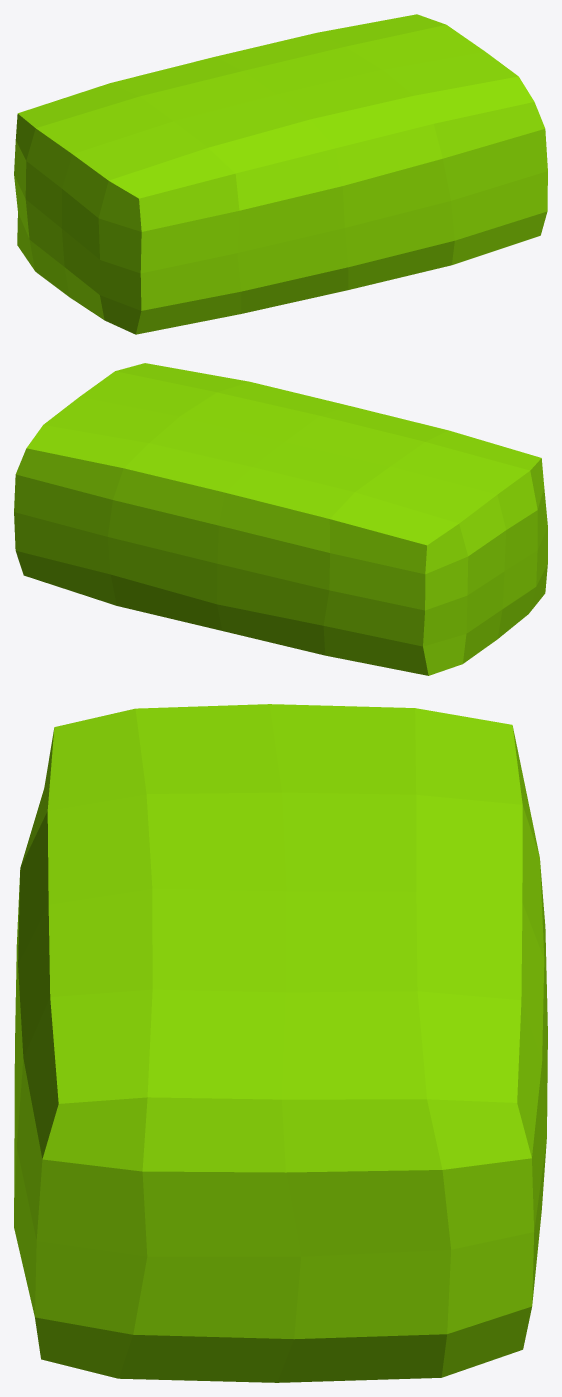
File: Wall_Stone_01_B.fbx
3 renders of one model, top to bottom at view 1: azimuth 30°, elevation 25°; view 2: azimuth 150°, elevation 25°; view 3: azimuth 270°, elevation 25°, orthographic. The views are drawn at different scales.
Parts seen in each view (by area): view 1: Wall_Stone_01_B; view 2: Wall_Stone_01_B; view 3: Wall_Stone_01_B.
Boxes of the visible parts, x1,y1,x2,y2 form: Wall_Stone_01_B: (14,14,547,334); Wall_Stone_01_B: (14,363,547,675); Wall_Stone_01_B: (14,704,547,1382).
Bounding box in the file's own units: 303 × 104 × 164.
